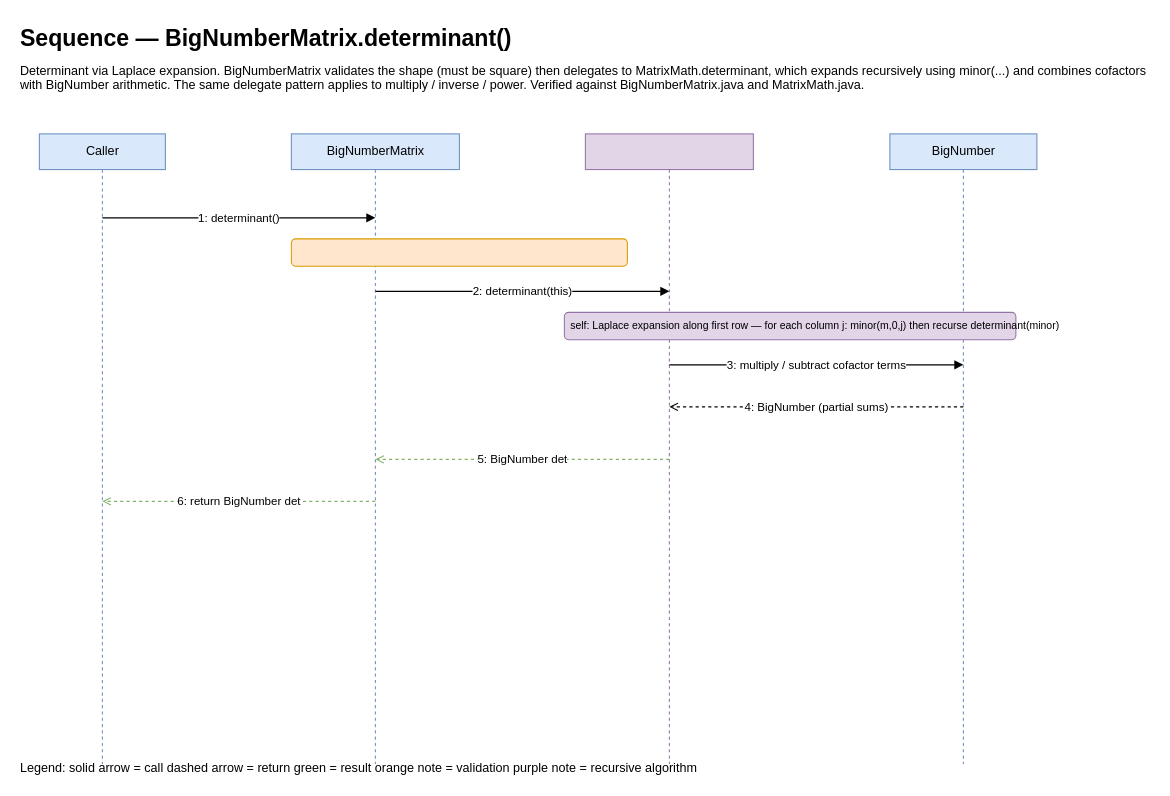
Some shapes in this 1170 by 796 pixel diagram are drawn without their labels. The box of each missing label's shape, as (x1, y1, x2, y2) in pixels:
MatrixMath: (584, 133, 753, 764)
self: validateDimensions() / require square (isSquare): (290, 238, 627, 266)
